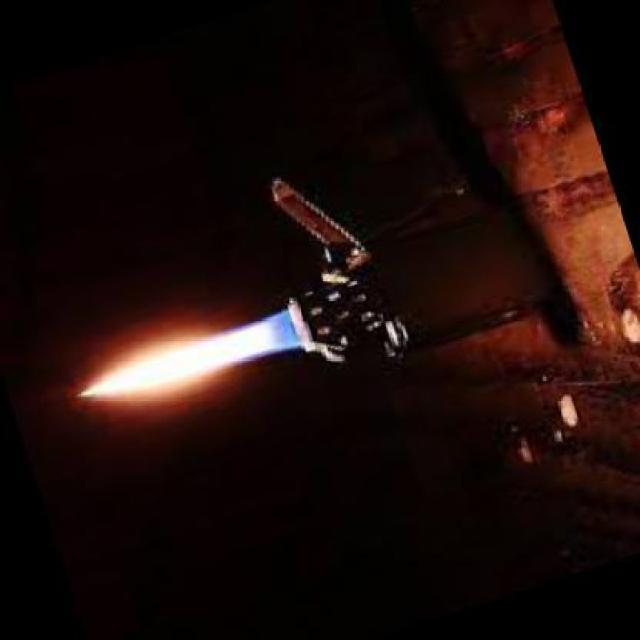Fire: (79, 312, 294, 408)
